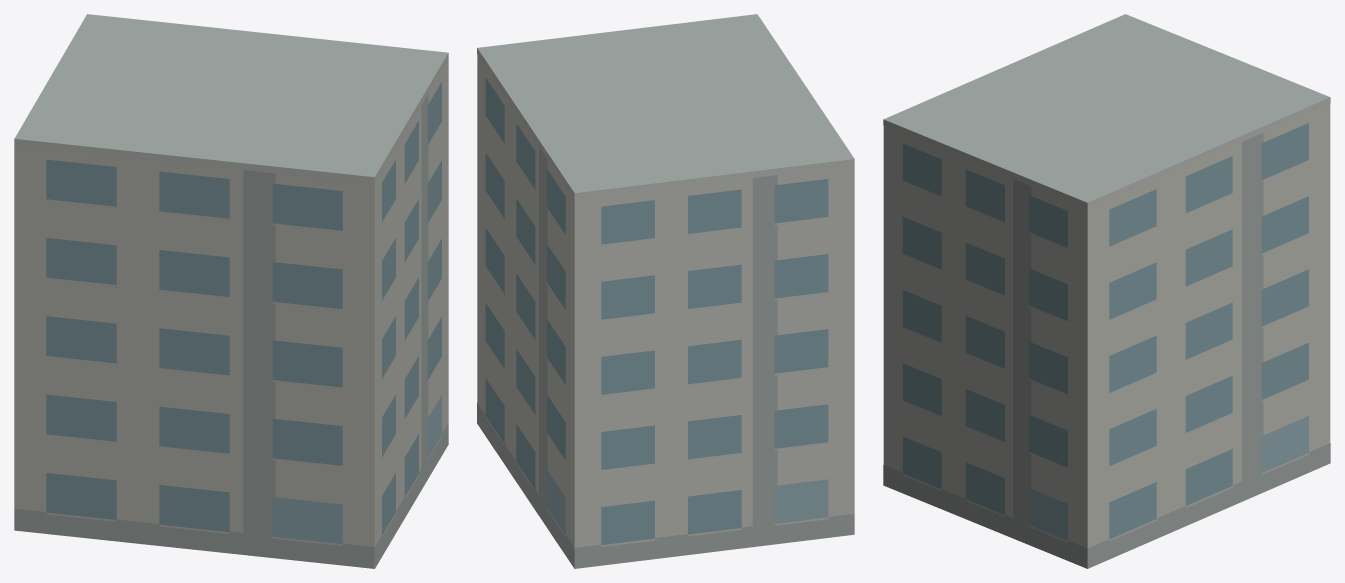
The model's file is survey-upis-33045710.glb.
3 views of the same model, side by side, from view 1: azimuth 30°, elevation 25°; view 2: azimuth 150°, elevation 25°; view 3: azimuth 270°, elevation 25° (orthographic). The views are drawn at different scales.
Parts seen in each view (by area): view 1: survey-upis-33045710.tmp; view 2: survey-upis-33045710.tmp; view 3: survey-upis-33045710.tmp.
Part boxes in pixels (box(x1,y1,x2,y2)): survey-upis-33045710.tmp: box(14, 14, 448, 568); survey-upis-33045710.tmp: box(477, 14, 854, 568); survey-upis-33045710.tmp: box(883, 14, 1330, 568).
Bounding box in the file's own units: 15.38 × 13.9 × 15.39.
